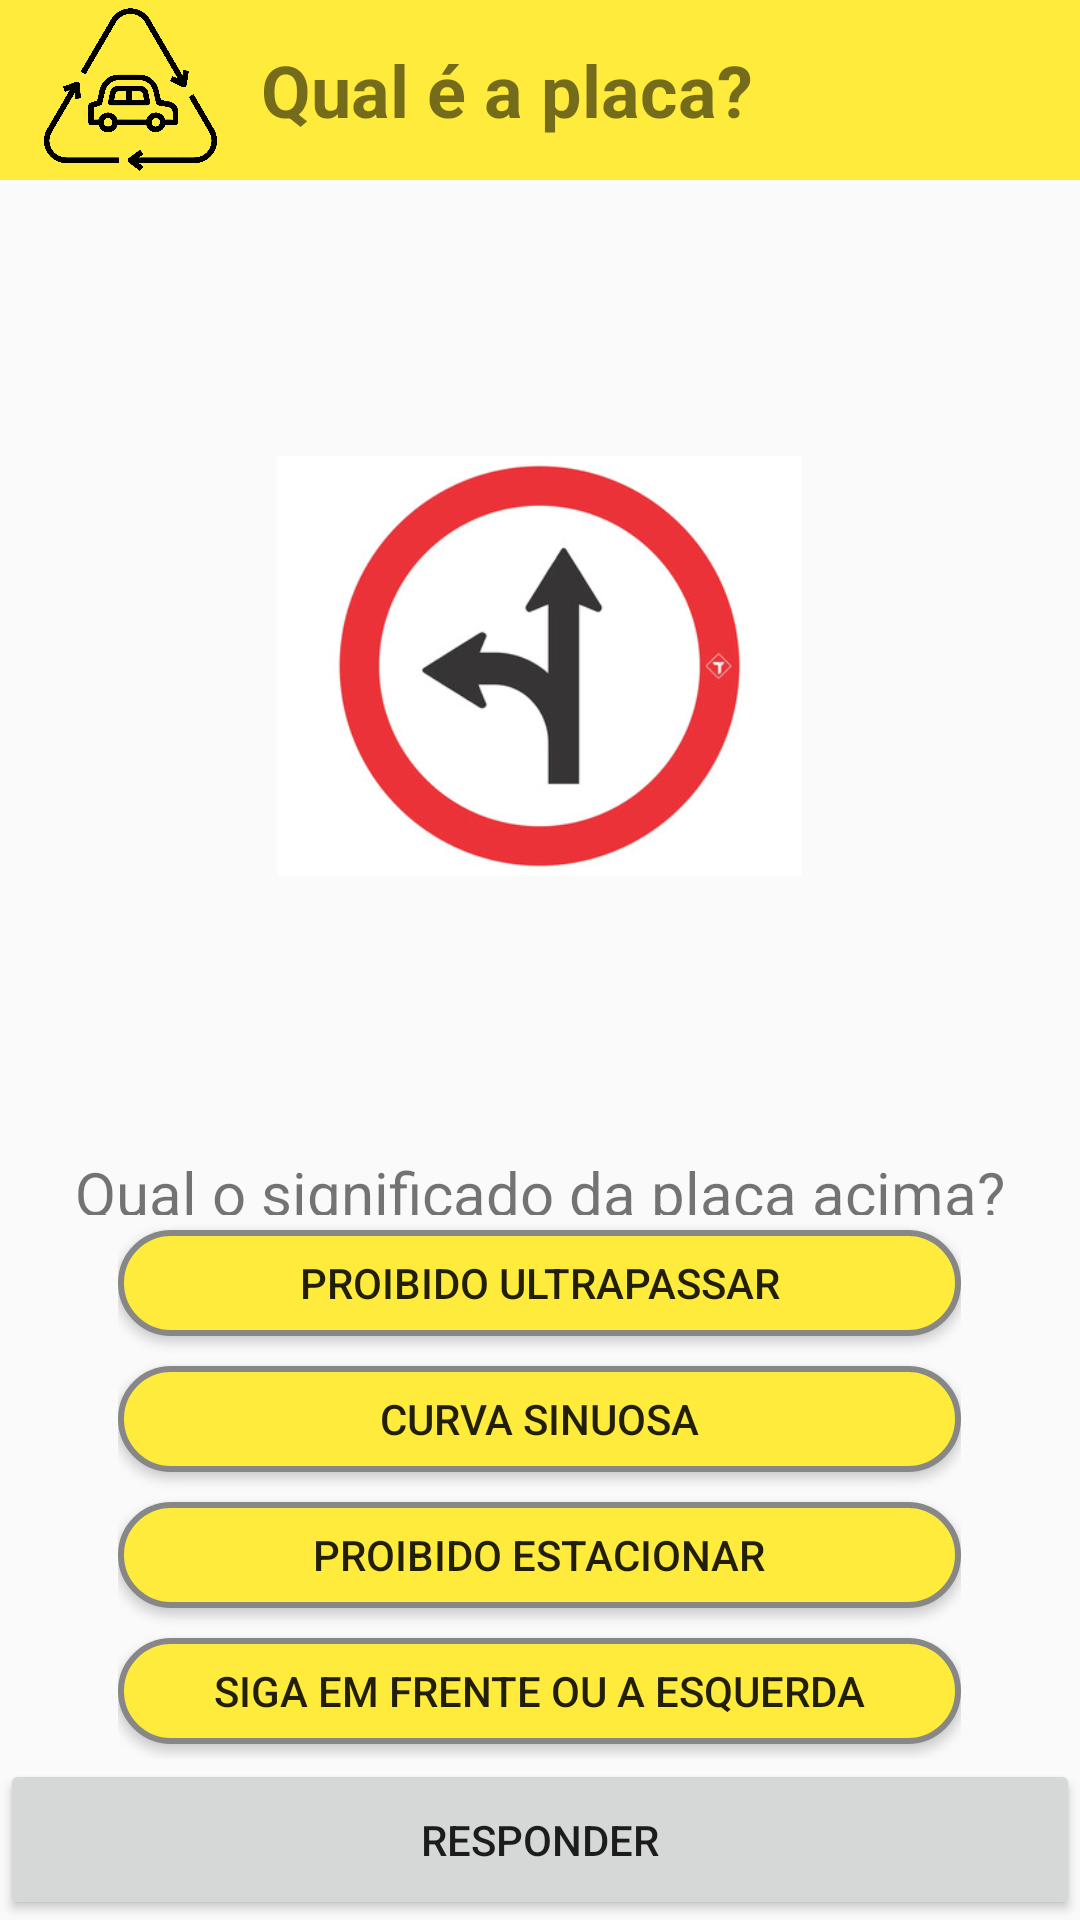

Icons on this 1080 x 1920 Android screen, each with its box as (x1, y1, x2, y2):
carro bala: (44, 8, 217, 171)
